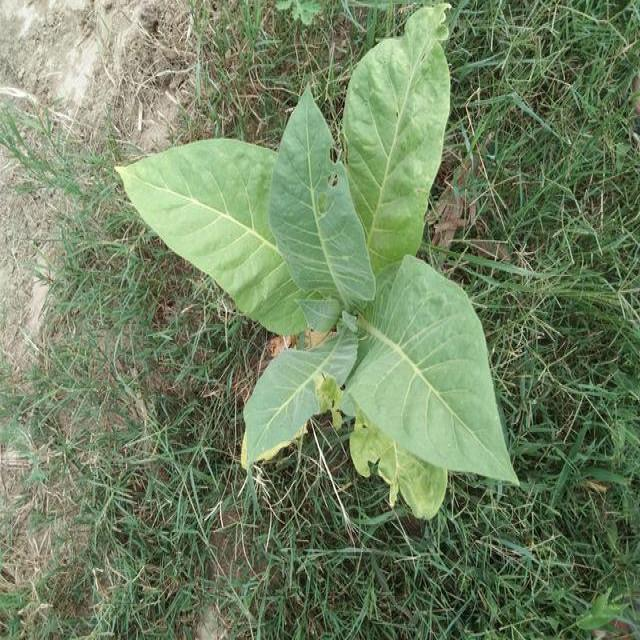crop: (113, 9, 528, 515)
